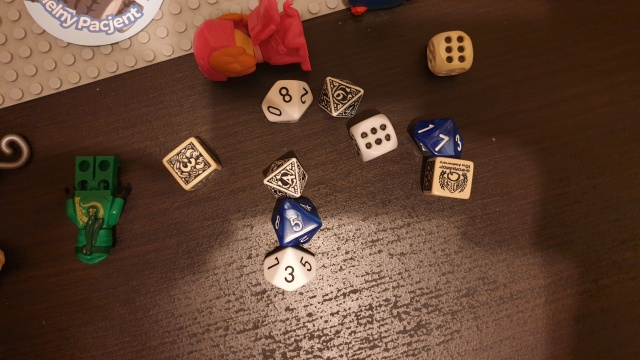d10-3: (258, 245, 324, 294)
d10-5: (265, 195, 325, 252)
d10-7: (407, 111, 465, 162)
d10-8: (258, 77, 314, 127)
d6-6: (421, 25, 477, 80), (348, 109, 399, 162)
d6p-3: (156, 135, 226, 193)
d6p-6: (419, 153, 476, 202)
d8p-4: (258, 155, 309, 199)
d8p-6: (312, 74, 365, 121)
